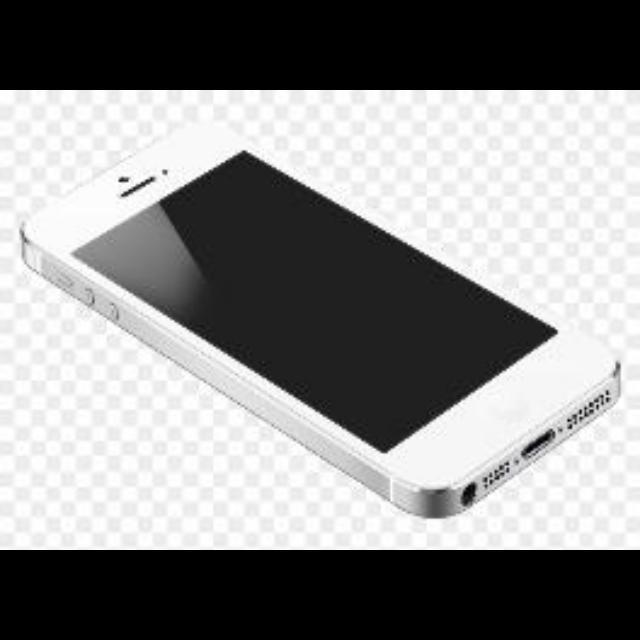Phone: (12, 116, 624, 524)
